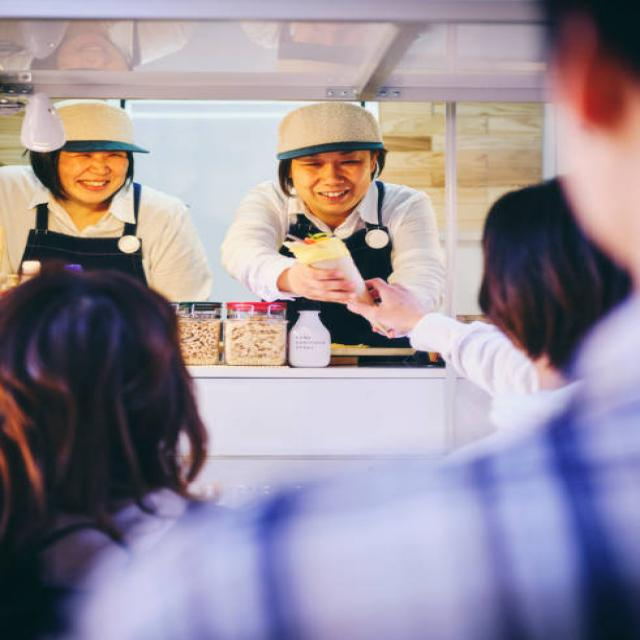Emperan: (0, 11, 640, 486)
